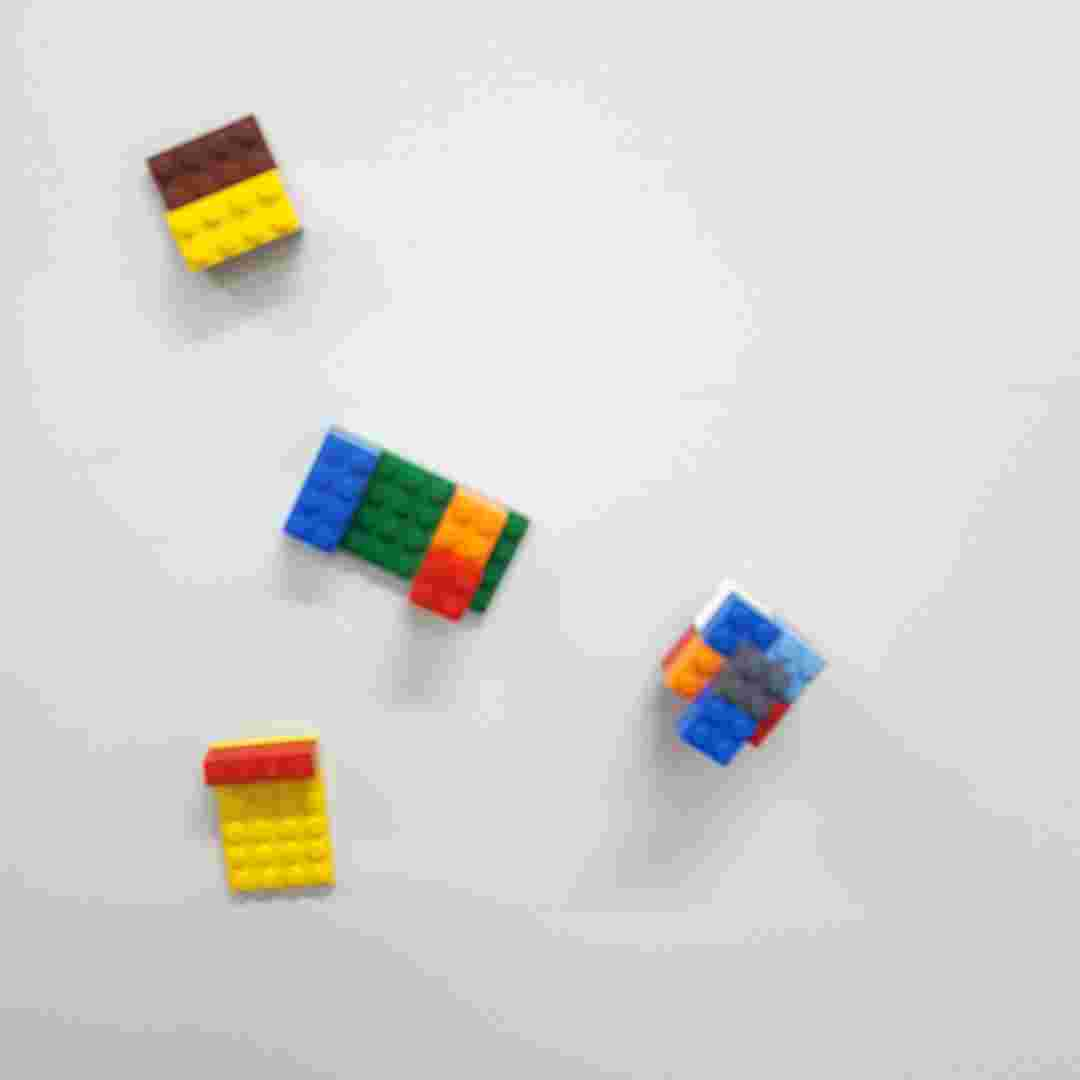LEGO: (281, 423, 534, 620), (663, 574, 832, 769), (150, 109, 309, 275), (198, 727, 343, 904)
